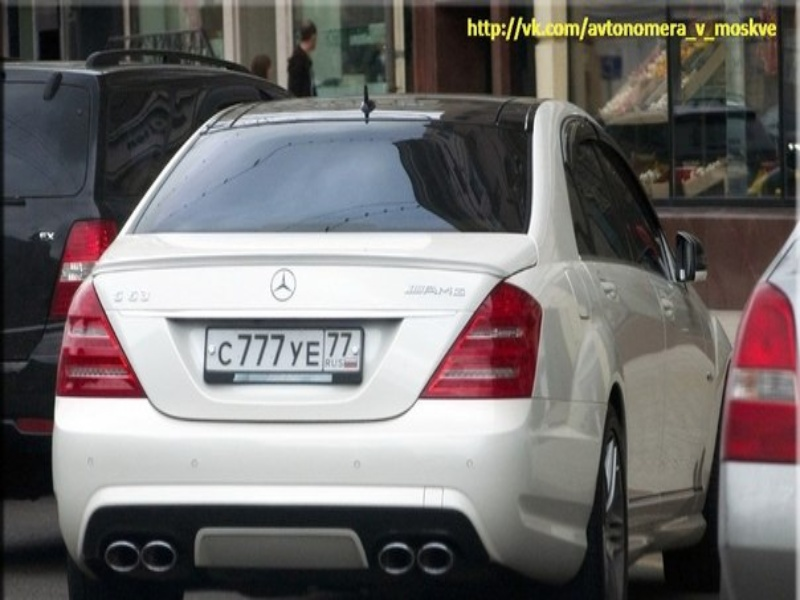car: (50, 92, 732, 600), (3, 51, 292, 456)
person: (288, 20, 319, 97)
plate: (206, 328, 361, 370)
